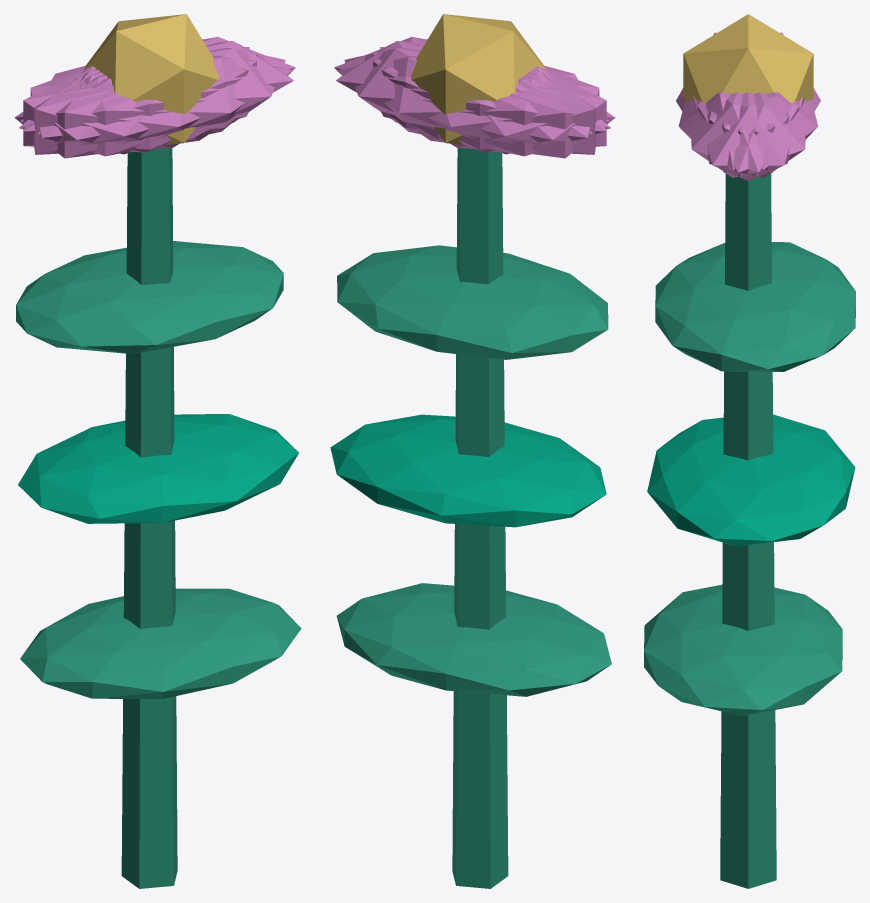
File: ficus-nota.glb
3 views of the same model, side by side, from view 1: azimuth 30°, elevation 25°; view 2: azimuth 150°, elevation 25°; view 3: azimuth 270°, elevation 25° (orthographic).
Visible parts, largest first — view 1: stem, leaf1, leaf0, leaf2, center, petal1, petal6, petal2, petal5, petal7, petal0, petal4 (+2 smaller); view 2: stem, leaf2, leaf1, leaf0, center, petal8, petal3, petal7, petal4, petal2, petal0, petal5 (+2 smaller); view 3: stem, leaf1, leaf2, leaf0, center, petal0, petal4, petal5, petal8, petal1.
Boxes of the visible parts, box(x1,y1,x2,y2) form: stem: box(121, 148, 177, 888); leaf1: box(18, 414, 298, 523); leaf0: box(20, 588, 301, 698); leaf2: box(16, 241, 283, 354); center: box(84, 14, 218, 145); petal1: box(19, 55, 293, 156); petal6: box(14, 68, 213, 158); petal2: box(33, 47, 249, 154); petal5: box(37, 48, 285, 149); petal7: box(23, 52, 257, 152); petal0: box(83, 41, 293, 139); petal4: box(20, 36, 295, 131); stem: box(452, 148, 508, 888); leaf2: box(337, 245, 608, 359); leaf1: box(330, 414, 606, 527); leaf0: box(336, 583, 611, 696); center: box(411, 14, 545, 145); petal8: box(336, 55, 610, 156); petal3: box(416, 68, 615, 158); petal7: box(380, 47, 595, 154); petal4: box(344, 48, 592, 149); petal2: box(372, 52, 606, 152); petal0: box(336, 41, 546, 139); petal5: box(334, 36, 609, 131); stem: box(720, 173, 776, 888); leaf1: box(647, 414, 855, 546); leaf2: box(655, 242, 855, 371); leaf0: box(644, 584, 842, 716); center: box(683, 14, 813, 102); petal0: box(692, 92, 804, 180); petal4: box(697, 92, 805, 177); petal5: box(691, 92, 799, 177); petal8: box(707, 92, 818, 170); petal1: box(678, 92, 789, 170).
Size of the model in its own units: 0.1452 by 0.4391 by 0.0998.
